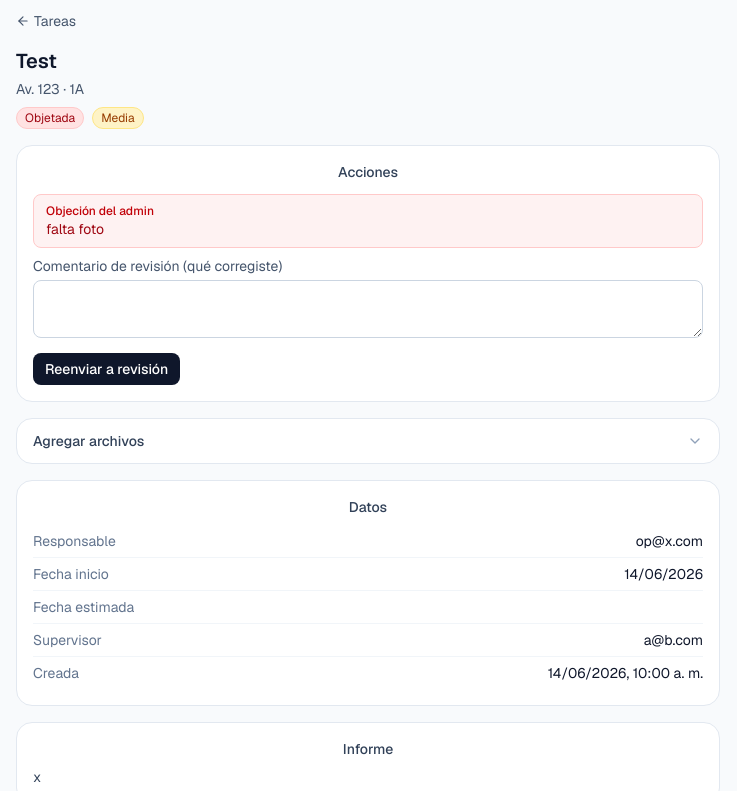
Scenario: TareaDetalle › el asignado ve la sección 'Agregar archivos' en una tarea Objetada
# Es una barra colapsable: al expandir aparece el botón "Guardar archivos".
Click the button "Agregar archivos".
click(89, 441)  # box x1=17 y1=419 x2=719 y2=463
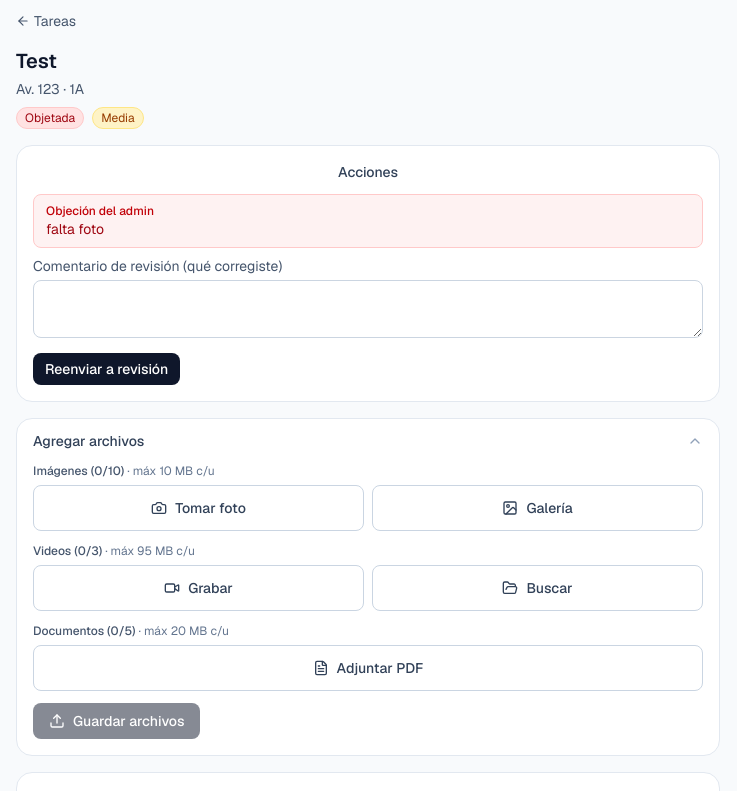
Now the button "Guardar archivos" is shown, box x1=33 y1=703 x2=200 y2=739
